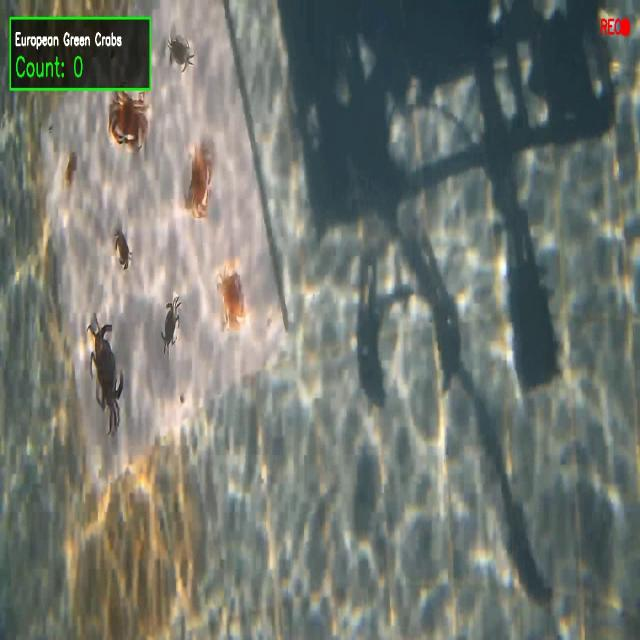European_Green_Crab: (79, 305, 129, 440), (157, 287, 188, 360), (165, 28, 197, 77)
